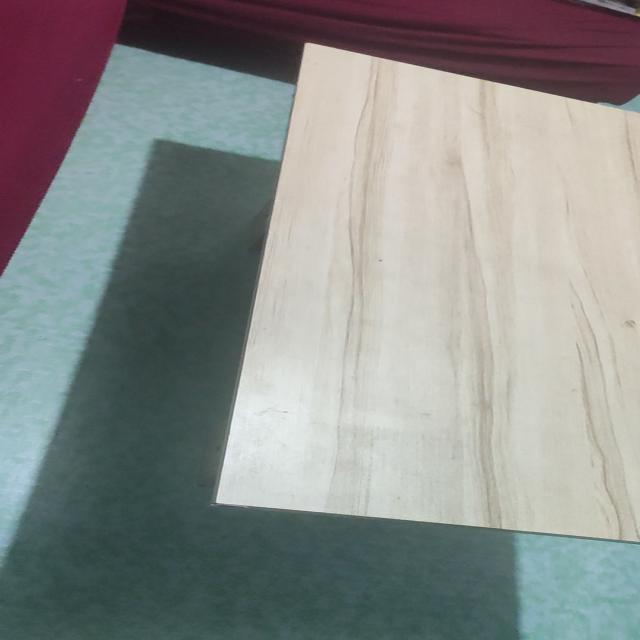table: (192, 41, 640, 562)
